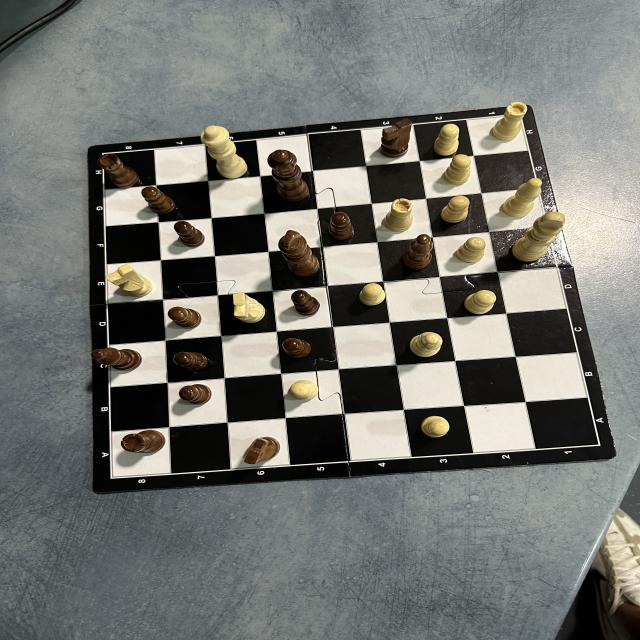Black-Bishop: (90, 347, 141, 370), (404, 233, 434, 270)
Black-King: (278, 229, 320, 277)
Black-Knight: (380, 118, 414, 157), (242, 436, 280, 465)
Black-Pawn: (141, 186, 176, 216), (326, 212, 356, 240), (292, 289, 320, 317), (168, 306, 202, 328), (179, 384, 212, 406), (173, 351, 208, 371), (175, 222, 204, 246), (282, 338, 312, 359)
Black-Queen: (268, 150, 310, 201)
Black-Rook: (100, 154, 137, 188), (122, 430, 165, 456)
White-Bishop: (502, 178, 542, 218), (410, 331, 443, 358)
White-King: (512, 212, 565, 262)
White-Knight: (106, 265, 152, 297), (232, 293, 266, 323)
White-Pawn: (434, 123, 460, 156), (443, 155, 471, 184), (465, 290, 496, 316), (441, 196, 470, 223), (456, 238, 486, 264), (421, 416, 451, 438), (289, 380, 319, 401), (359, 283, 386, 306)
White-Queen: (202, 126, 249, 180)
White-Rook: (492, 102, 527, 142), (384, 198, 413, 230)
